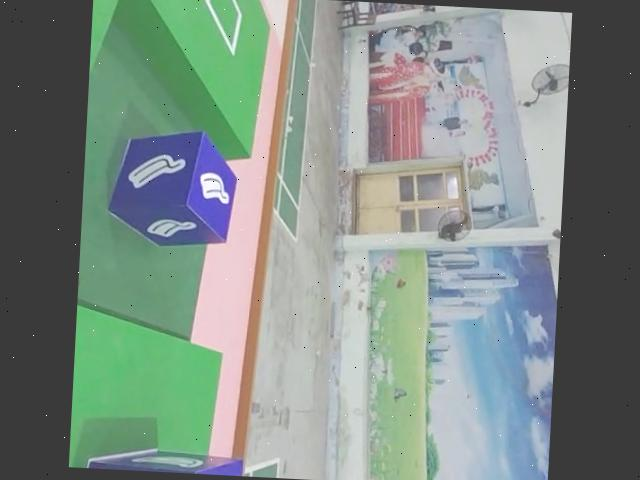R2 Real Blue: (102, 126, 237, 251), (68, 446, 247, 477)
